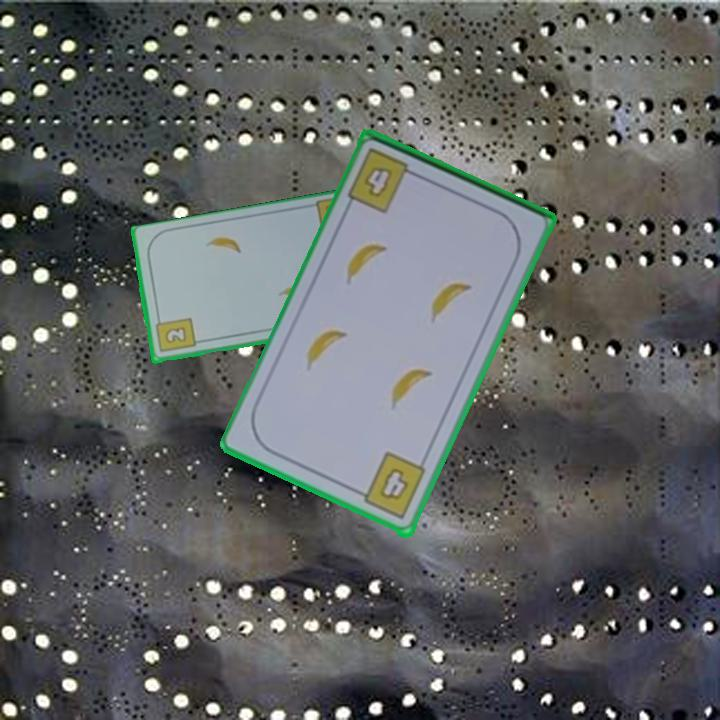2b: (152, 313, 198, 355)
4b: (351, 449, 429, 524), (360, 163, 396, 201)
